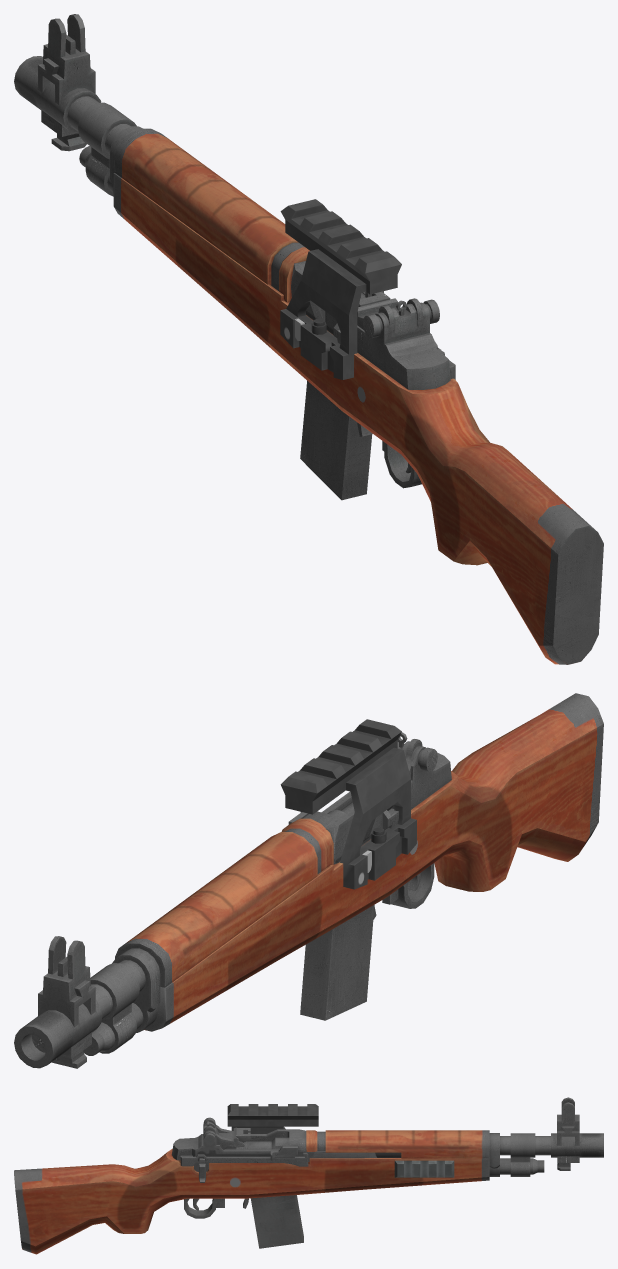
The model's file is IG_Gun_M14.fbx.
The picture shows the model from 3 angles, top to bottom: view 1: azimuth 30°, elevation 25°; view 2: azimuth 150°, elevation 25°; view 3: azimuth 270°, elevation 25°; orthographic projection. The views are drawn at different scales.
Parts seen in each view (by area): view 1: WPN_M14, ShowIf_Scope, HideIf_Muzzle; view 2: WPN_M14, ShowIf_Scope, HideIf_Muzzle; view 3: WPN_M14, ShowIf_Scope, HideIf_Muzzle, ShowIf_Tec.
Boxes of the visible parts, x1,y1,x2,y2 form: WPN_M14: [67, 96, 603, 664]; ShowIf_Scope: [280, 199, 401, 379]; HideIf_Muzzle: [14, 14, 101, 151]; WPN_M14: [83, 693, 603, 1055]; ShowIf_Scope: [280, 719, 416, 889]; HideIf_Muzzle: [14, 936, 102, 1068]; WPN_M14: [14, 1117, 550, 1254]; ShowIf_Scope: [227, 1104, 318, 1133]; HideIf_Muzzle: [551, 1097, 603, 1170]; ShowIf_Tec: [394, 1160, 454, 1177].
Bounding box in the file's own units: 0.1138 × 0.393 × 1.38.
